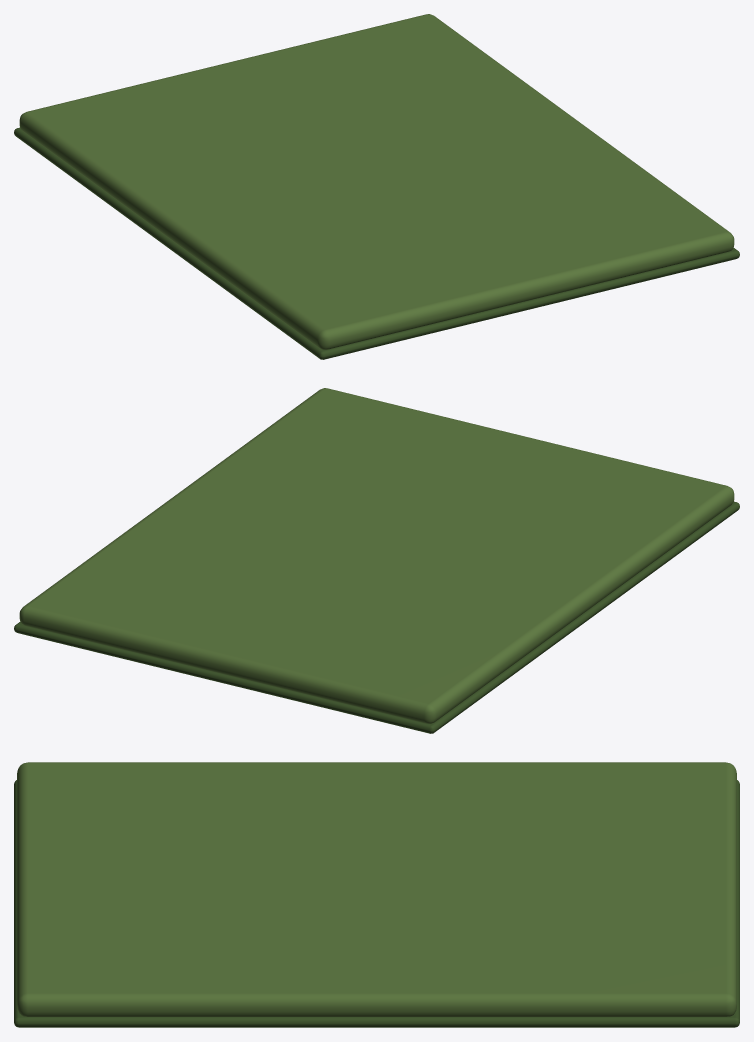
Rendered from frame.glb.
The picture shows the model from 3 angles, top to bottom: view 1: azimuth 30°, elevation 25°; view 2: azimuth 150°, elevation 25°; view 3: azimuth 270°, elevation 25°; orthographic projection. The views are drawn at different scales.
Visible parts, largest first — view 1: Cube; view 2: Cube; view 3: Cube.
Boxes of the visible parts, x1,y1,x2,y2 form: Cube: [14, 14, 739, 359]; Cube: [14, 388, 739, 733]; Cube: [14, 762, 739, 1027].
Size of the model in its own units: 7.4 by 0.43 by 9.4.
